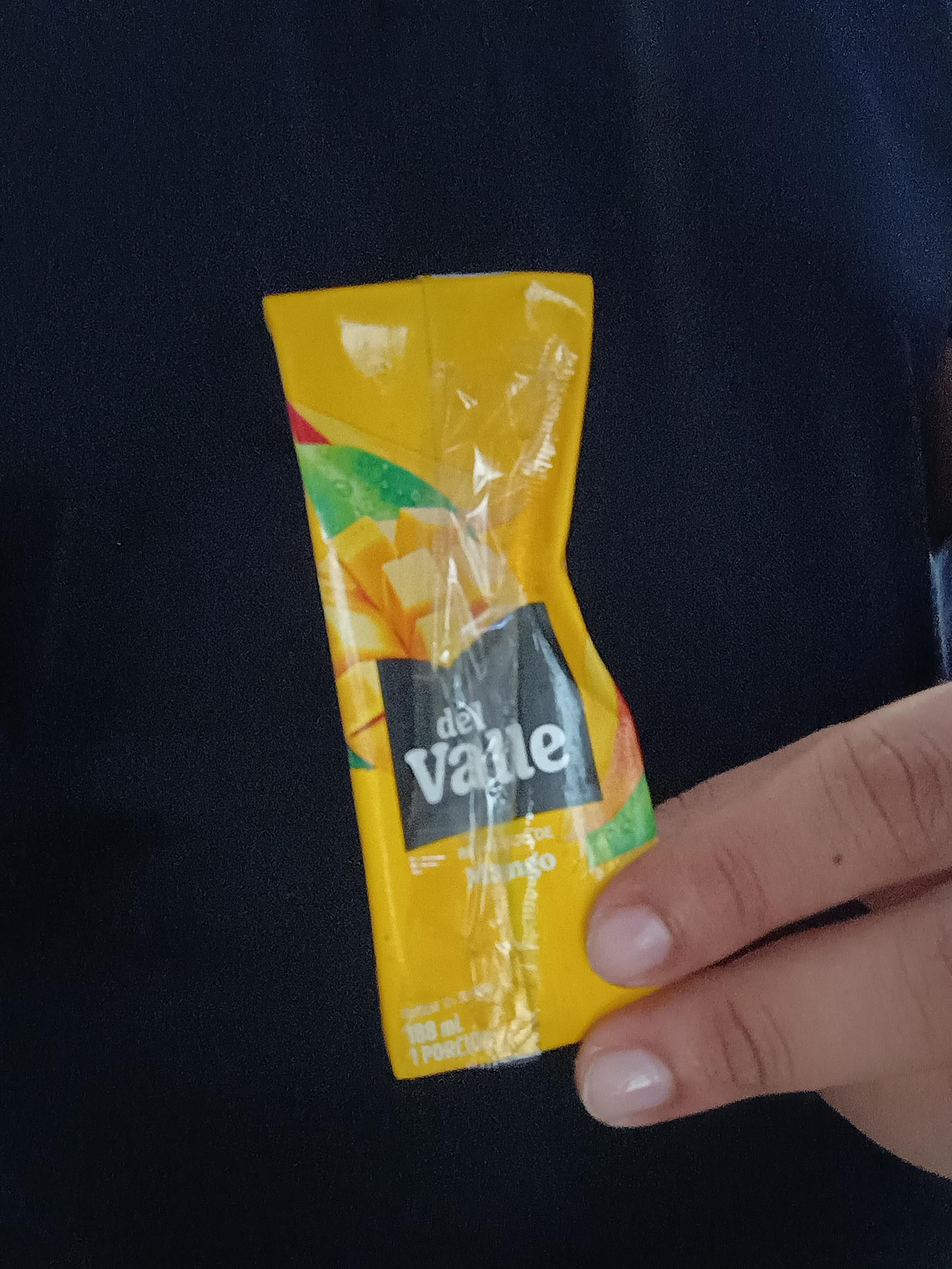Carton: (260, 269, 662, 1083)
